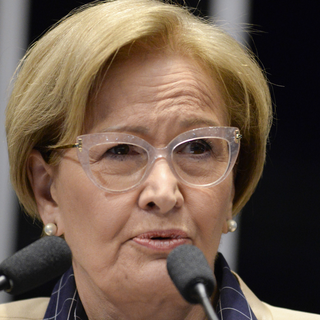eye: (94, 138, 151, 168), (171, 133, 219, 166)
